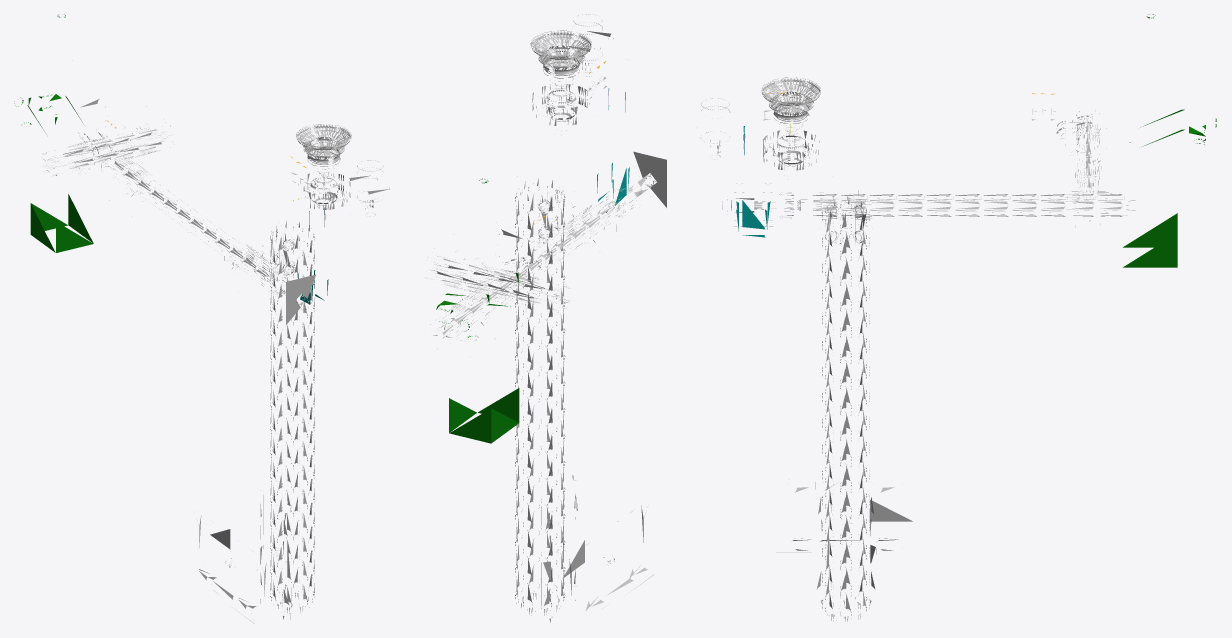
The picture shows the model from 3 angles, left to right: view 1: azimuth 30°, elevation 25°; view 2: azimuth 150°, elevation 25°; view 3: azimuth 270°, elevation 25°; orthographic projection. The views are drawn at different scales.
Visible parts, largest first — view 1: F19721000063101014122_001_zb_ub_spanner_22_fa (×2); view 2: F19721000063101014122_001_zb_ub_spanner_22_fa (×3); view 3: F19721000063101014122_001_zb_ub_spanner_22_fa (×2).
Boxes of the visible parts, bbox=[...] form: F19721000063101014122_001_zb_ub_spanner_22_fa (×2): bbox=[14, 14, 389, 623]; F19721000063101014122_001_zb_ub_spanner_22_fa (×3): bbox=[428, 14, 666, 622]; F19721000063101014122_001_zb_ub_spanner_22_fa (×2): bbox=[700, 14, 1216, 621].
Bounding box in the file's own units: 224 × 549 × 642.
